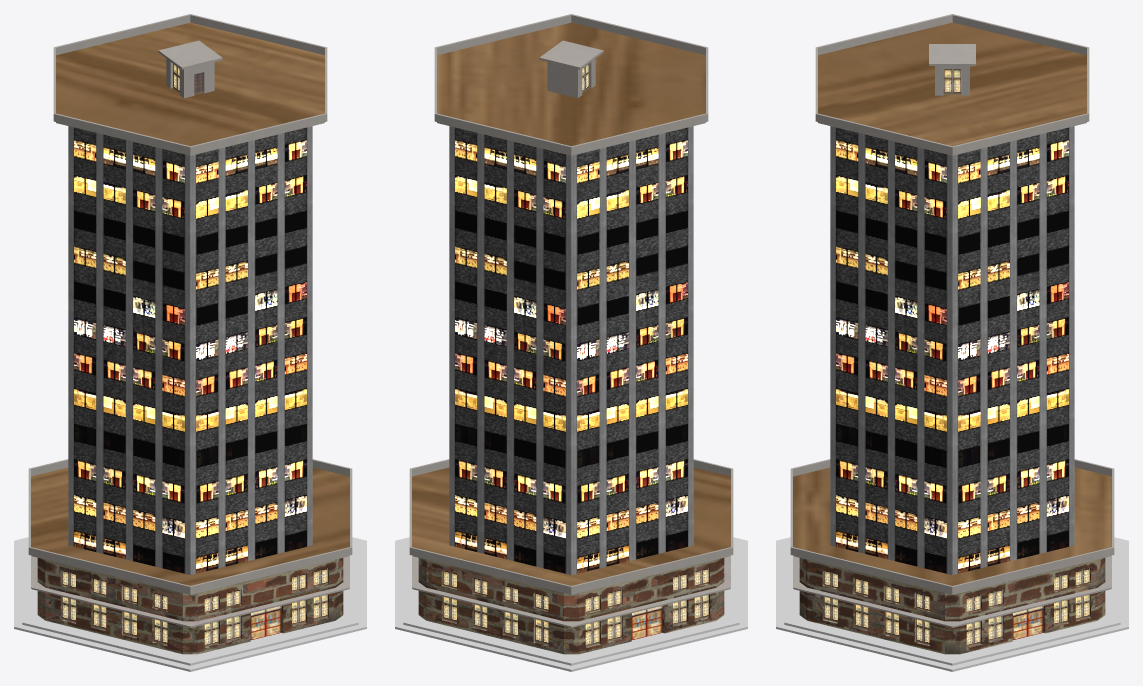
The model's file is BuildingC.fbx.
3 views of the same model, side by side, from view 1: azimuth 30°, elevation 25°; view 2: azimuth 150°, elevation 25°; view 3: azimuth 270°, elevation 25° (orthographic).
Visible parts, largest first — view 1: BuildingC; view 2: BuildingC; view 3: BuildingC.
Part boxes in pixels (x1,y1,x2,y2): BuildingC: (14, 14, 366, 671); BuildingC: (395, 14, 747, 671); BuildingC: (776, 14, 1128, 671).
Size of the model in its own units: 3465 by 4990 by 3001.
